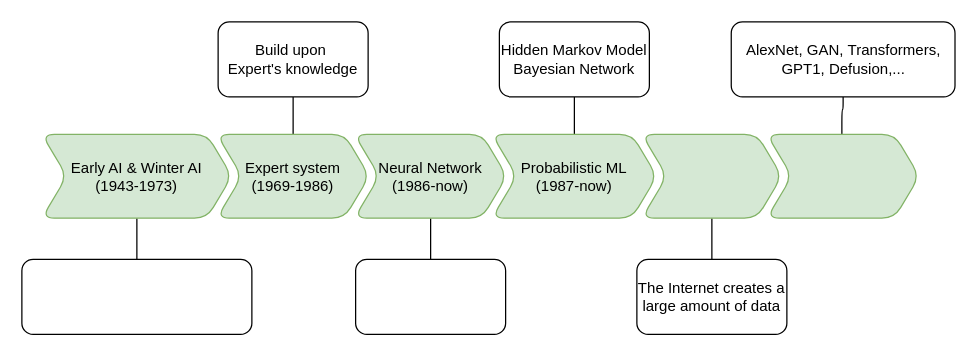
This 978x356 diagram has some shape labels left out. The centre of each missing label's shape, as x and y in pixels:
Back to back-propagation algorithm (1960s): [430,296]
Big data (2001–now): [711,175]
Deep learning (2011–now): [842,175]
Turing test, Perceptron,... Great expectation led to Winter AI: [136,296]
